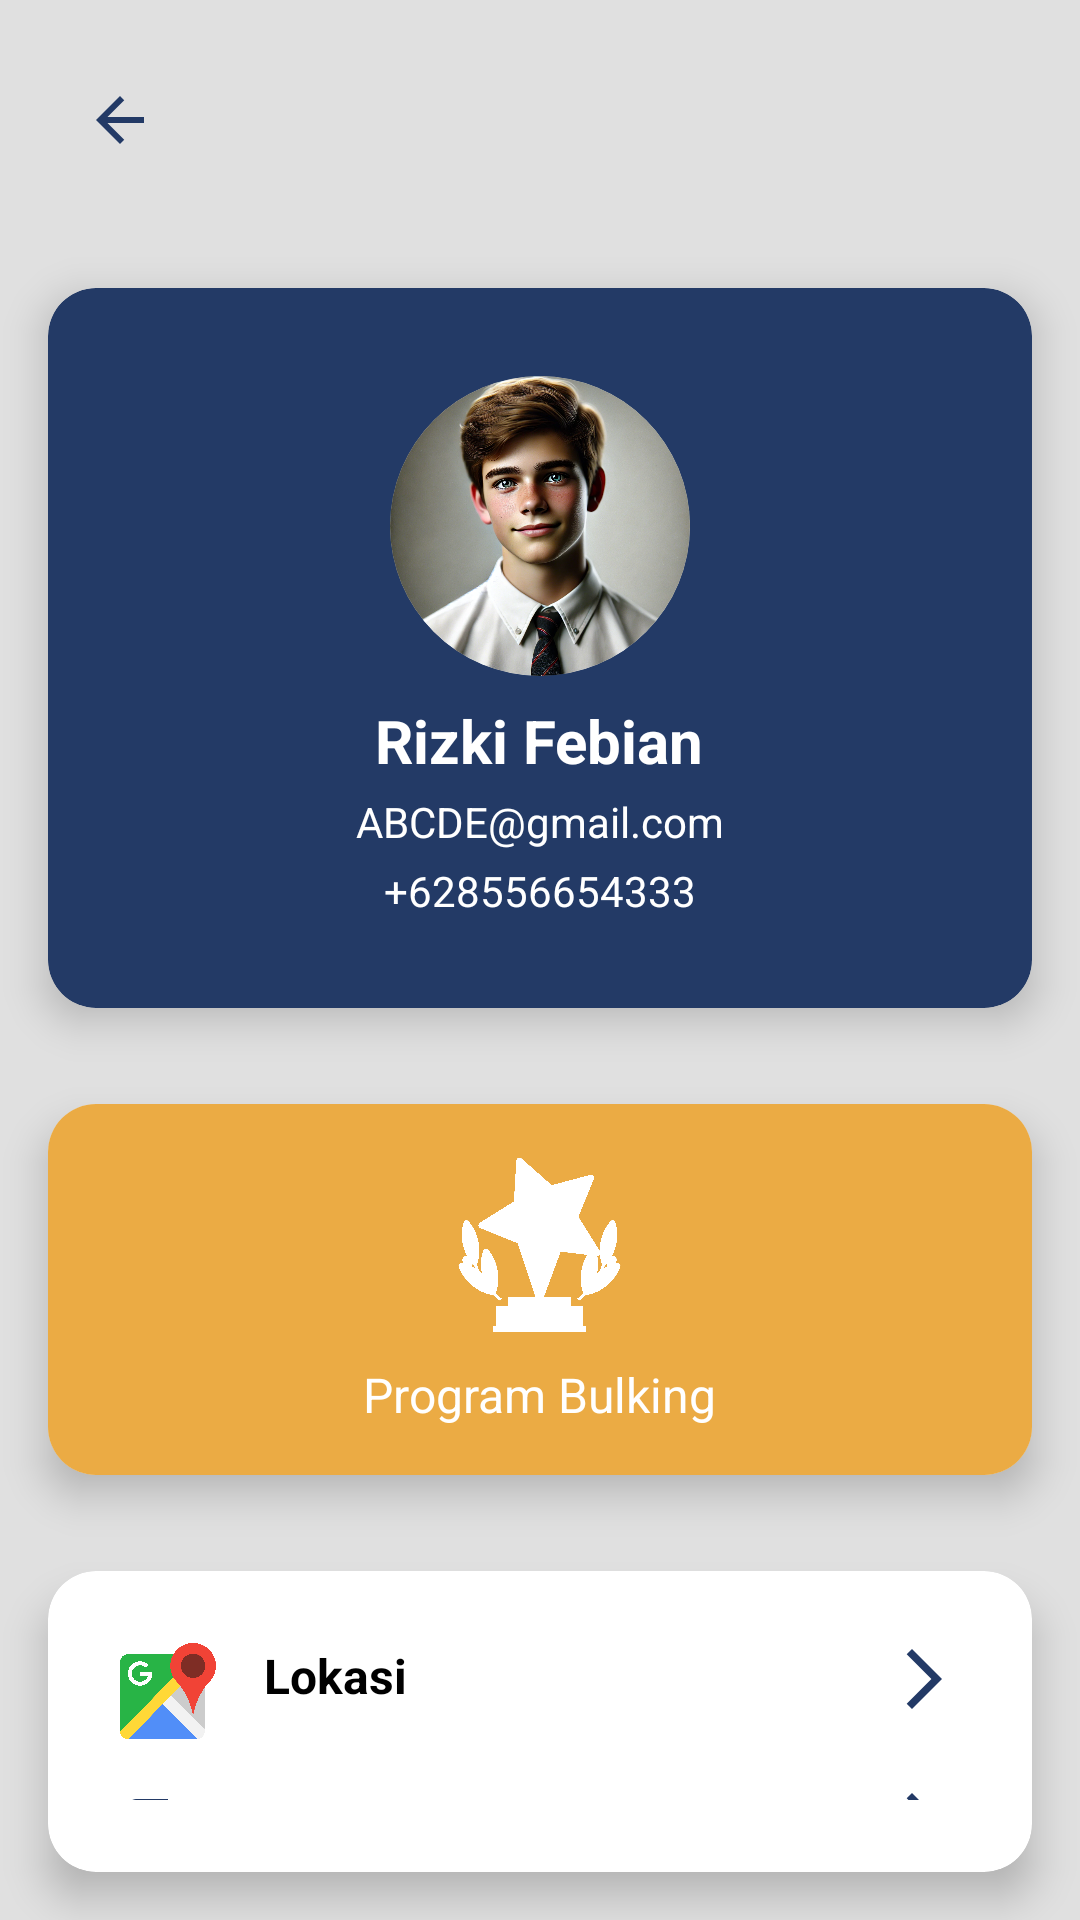

Locate icon controls on the screen. Image size 1080px×1920px, boxes as (x1, y1, x2, y2).
Foto profil pengguna: (390, 376, 690, 676)
Tombol Kembali: (96, 96, 144, 144)
